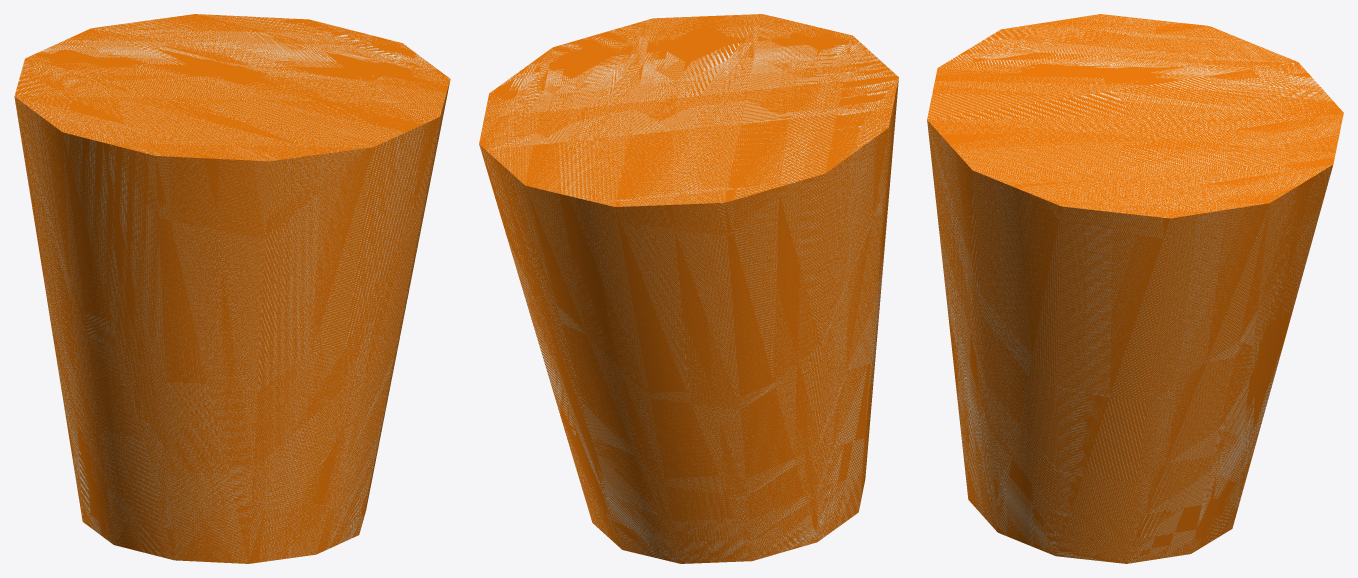
The model's file is original-13.obj.
3 renders of one model, left to right at view 1: azimuth 30°, elevation 25°; view 2: azimuth 150°, elevation 25°; view 3: azimuth 270°, elevation 25°, orthographic. The views are drawn at different scales.
Parts seen in each view (by area): view 1: Group_10_3/Group_10/mesh21/mesh21-geometry#mesh21-geometry; view 2: Group_10_3/Group_10/mesh21/mesh21-geometry#mesh21-geometry; view 3: Group_10_3/Group_10/mesh21/mesh21-geometry#mesh21-geometry.
Part boxes in pixels (x1,y1,x2,y2): Group_10_3/Group_10/mesh21/mesh21-geometry#mesh21-geometry: (14,14,450,563); Group_10_3/Group_10/mesh21/mesh21-geometry#mesh21-geometry: (479,14,898,563); Group_10_3/Group_10/mesh21/mesh21-geometry#mesh21-geometry: (927,14,1343,563).
Bounding box in the file's own units: 0.014 × 0.0156 × 0.014.
